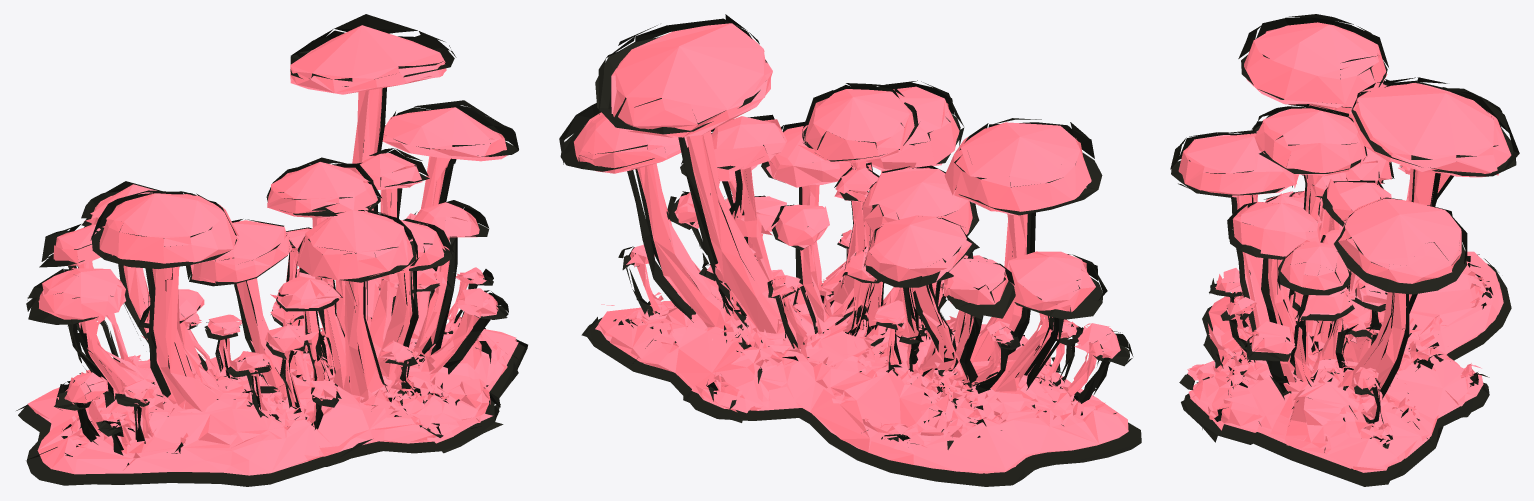
File: df_v2_mushroom_blocker_c_a.glb
3 views of the same model, side by side, from view 1: azimuth 30°, elevation 25°; view 2: azimuth 150°, elevation 25°; view 3: azimuth 270°, elevation 25° (orthographic). The views are drawn at different scales.
Visible parts, largest first — view 1: mushroom_blocker_c_mesh_01, mushroom_blocker_c_mesh_01_ink_outline; view 2: mushroom_blocker_c_mesh_01, mushroom_blocker_c_mesh_01_ink_outline; view 3: mushroom_blocker_c_mesh_01, mushroom_blocker_c_mesh_01_ink_outline.
Part boxes in pixels (x1,y1,x2,y2): mushroom_blocker_c_mesh_01: (28, 25, 518, 475); mushroom_blocker_c_mesh_01_ink_outline: (16, 14, 527, 486); mushroom_blocker_c_mesh_01: (574, 23, 1128, 473); mushroom_blocker_c_mesh_01_ink_outline: (559, 14, 1141, 486); mushroom_blocker_c_mesh_01: (1178, 22, 1511, 472); mushroom_blocker_c_mesh_01_ink_outline: (1170, 14, 1519, 486).
Size of the model in its own units: 1.68 by 1.06 by 0.9786.
